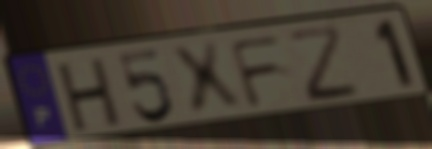1: (373, 16, 419, 93)
5: (115, 45, 177, 127)
F: (226, 32, 288, 112)
H: (55, 54, 124, 136)
X: (166, 39, 247, 120)
Z: (283, 22, 365, 106)
